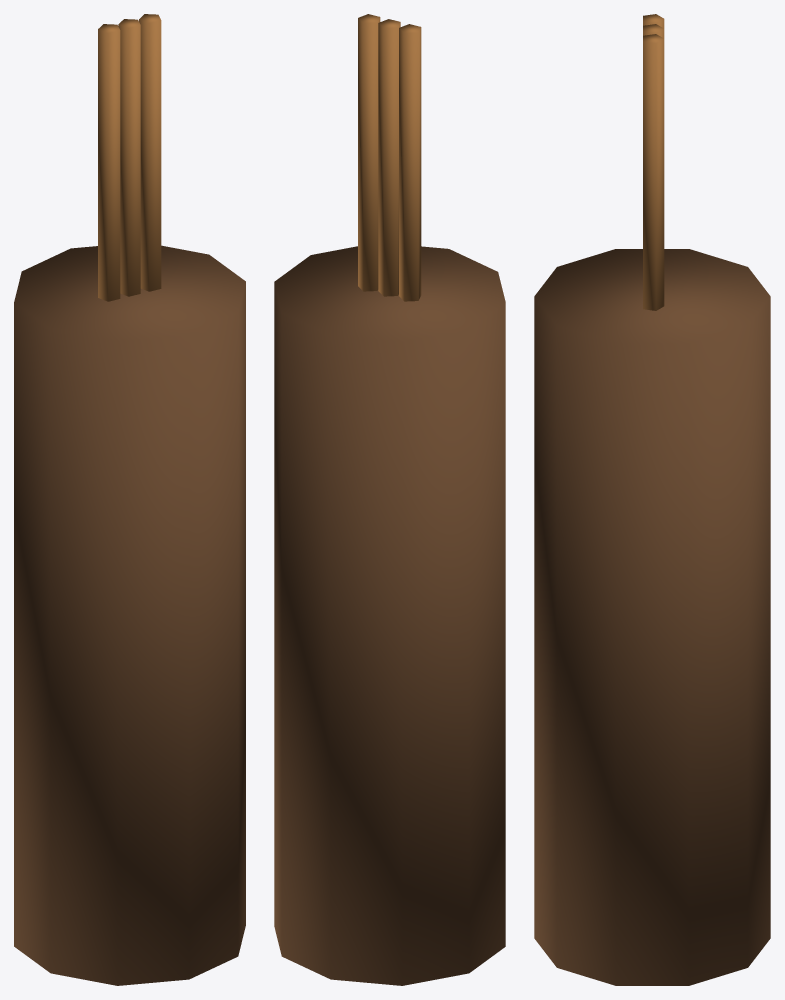
The model's file is quiver.glb.
3 views of the same model, side by side, from view 1: azimuth 30°, elevation 25°; view 2: azimuth 150°, elevation 25°; view 3: azimuth 270°, elevation 25° (orthographic).
Visible parts, largest first — view 1: quiver; view 2: quiver; view 3: quiver.
Part boxes in pixels (x1,y1,x2,y2): quiver: (14,14,245,985); quiver: (274,14,505,985); quiver: (534,14,770,985).
Size of the model in its own units: 0.1902 by 0.85 by 0.2.
